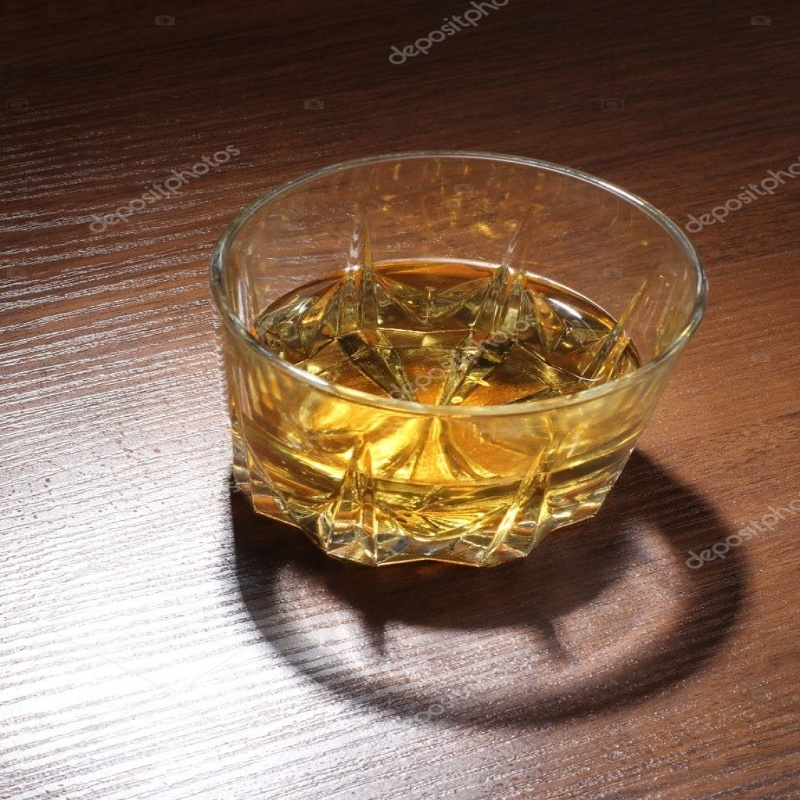whiskey: (217, 149, 706, 578)
